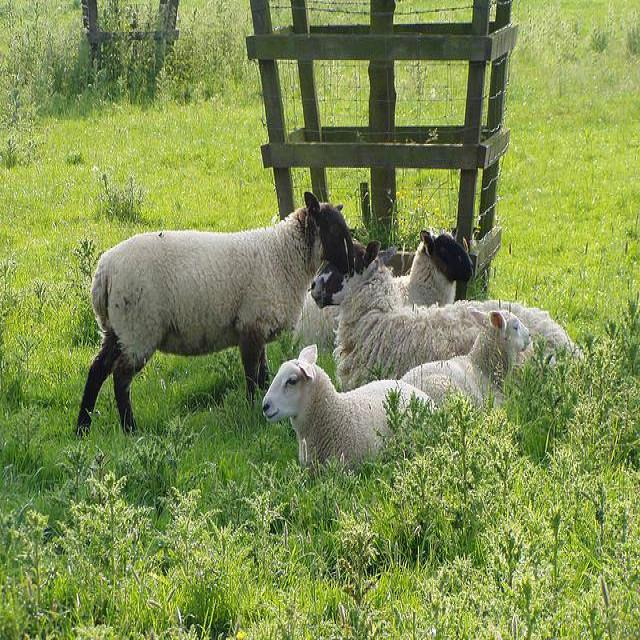Sheep: (78, 190, 356, 434), (310, 235, 593, 393), (261, 343, 440, 465), (293, 231, 474, 349), (400, 312, 536, 407)
